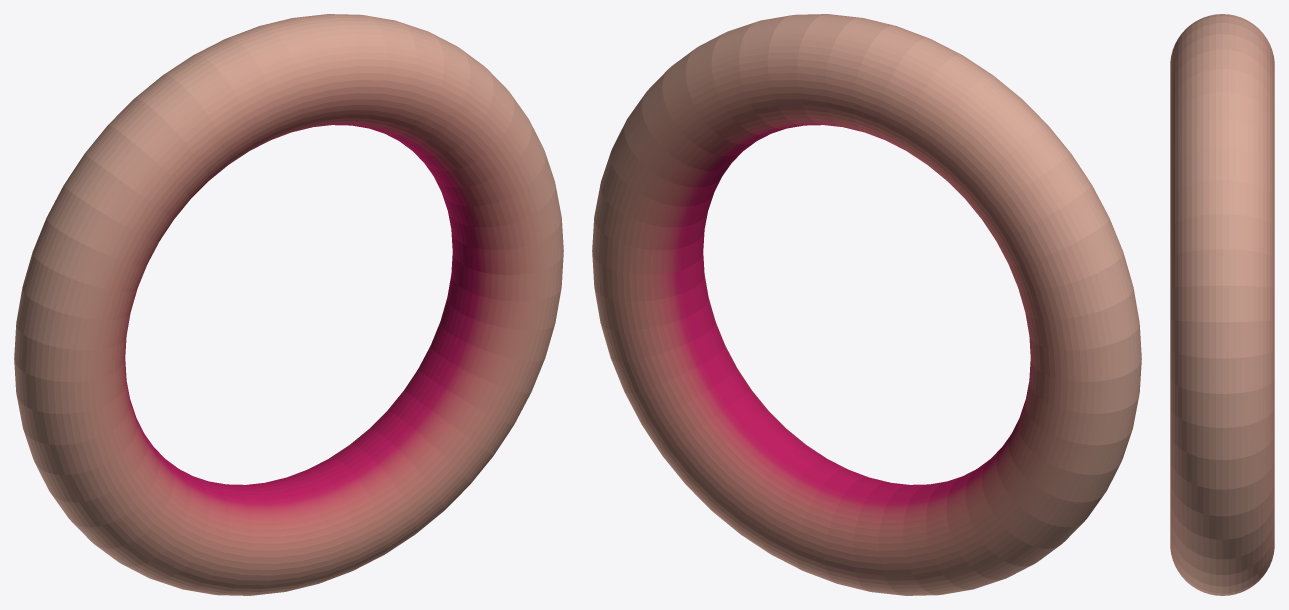
3 views of the same model, side by side, from view 1: azimuth 30°, elevation 25°; view 2: azimuth 150°, elevation 25°; view 3: azimuth 270°, elevation 25° (orthographic). The views are drawn at different scales.
Parts seen in each view (by area): view 1: world; view 2: world; view 3: world.
Boxes of the visible parts, bbox=[...] form: world: bbox=[14, 14, 563, 595]; world: bbox=[592, 14, 1141, 595]; world: bbox=[1170, 14, 1274, 595].
Size of the model in its own units: 33.33 by 33.27 by 5.99.
